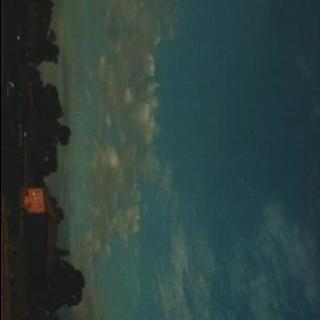Stratocumulus: (74, 0, 317, 320)
